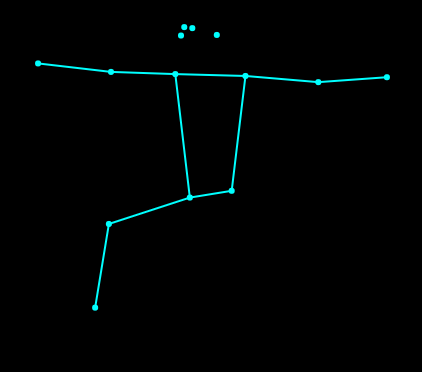warrior_2: (26, 17, 397, 317)
